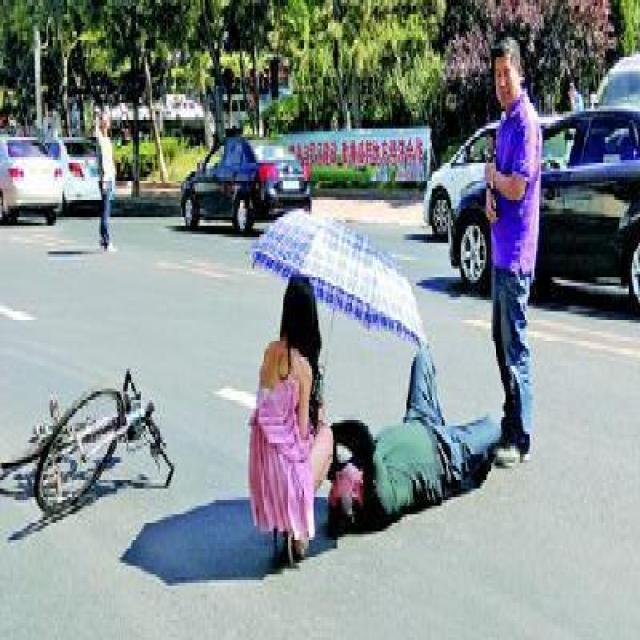fall: (323, 339, 506, 538)
nonfall: (483, 38, 543, 466), (250, 269, 332, 575), (91, 118, 116, 255)
